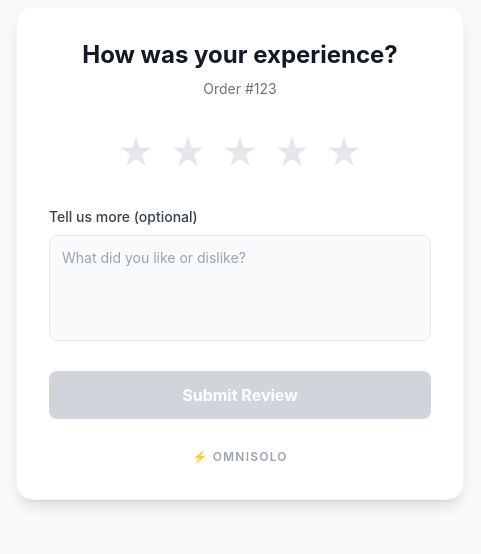
Test case: LeaveReviewPage › does not fabricate review or referral success after a 5-star review
Expected: the text "★" is shown 5 times, [117,131,155,175]; [169,131,207,175]; [221,131,259,175]; [273,131,311,175]; [325,131,363,175]
Note: Click 5th star
Click the 5th button "★": (344, 153) [322,131,366,175]
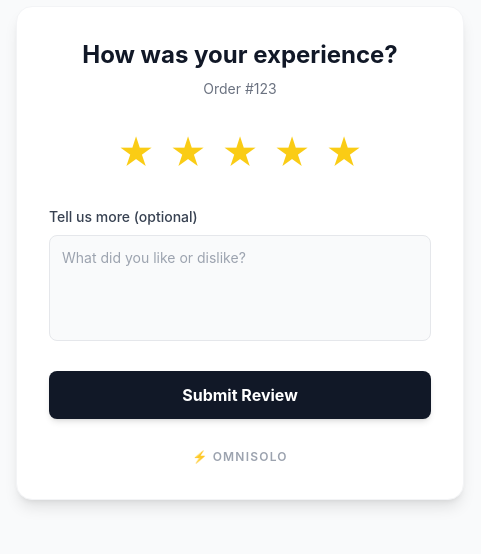
Click the button "Submit Review": (240, 395) [49,371,431,419]
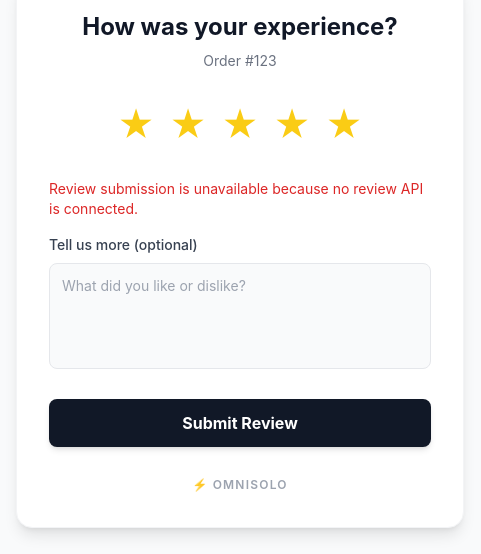
Result: the message shows "Review submission is unavailable" at [49,180,423,217]
